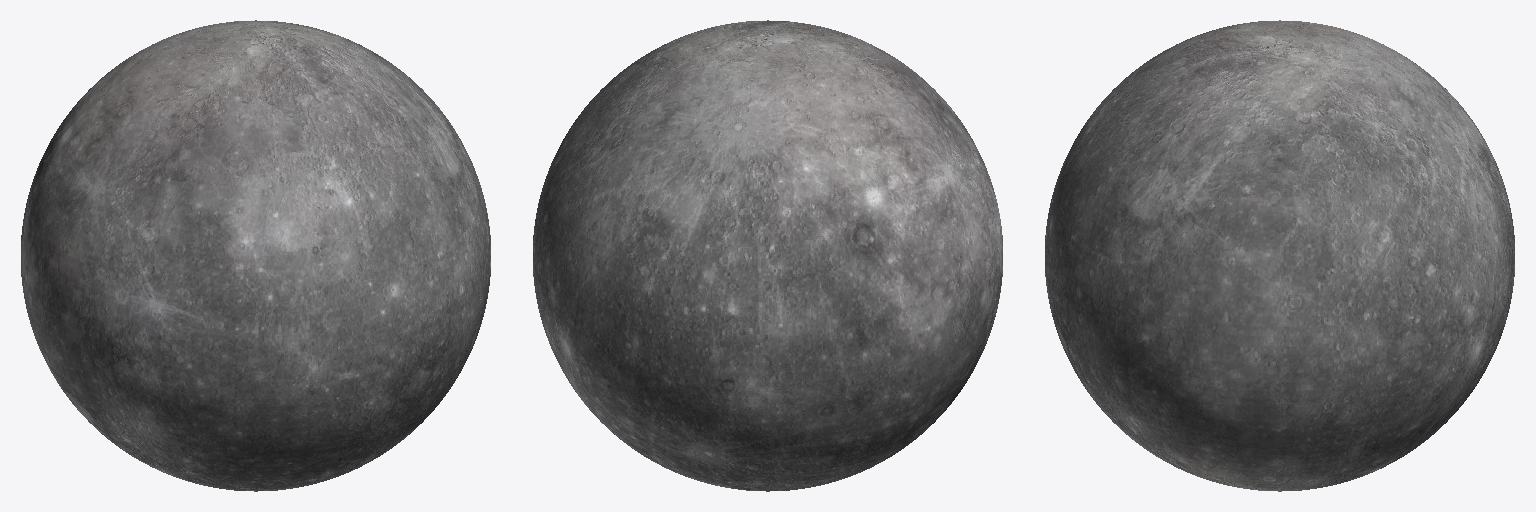
The picture shows the model from 3 angles: view 1: azimuth 30°, elevation 25°; view 2: azimuth 150°, elevation 25°; view 3: azimuth 270°, elevation 25°; orthographic projection.
Parts seen in each view (by area): view 1: cylindrically_mapped_sphere.001; view 2: cylindrically_mapped_sphere.001; view 3: cylindrically_mapped_sphere.001.
Boxes of the visible parts, x1=… form: cylindrically_mapped_sphere.001: x1=21, y1=20, x2=490, y2=491; cylindrically_mapped_sphere.001: x1=533, y1=20, x2=1002, y2=491; cylindrically_mapped_sphere.001: x1=1045, y1=20, x2=1514, y2=491.
Size of the model in its own units: 1000 by 1000 by 1000.
Materials: 1 (1 with a texture image).